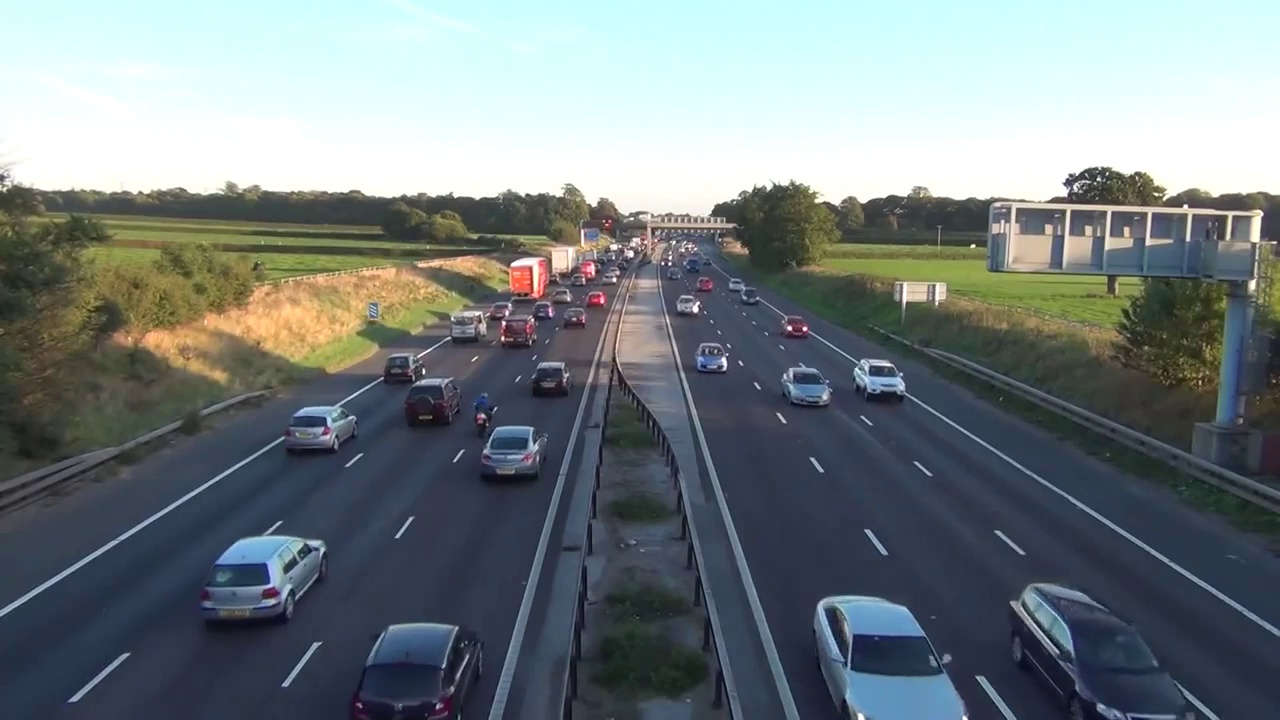bus: (1003, 578, 1206, 720), (800, 593, 980, 717), (346, 615, 485, 720), (188, 522, 325, 626), (402, 374, 469, 437), (287, 405, 360, 461), (482, 423, 555, 478), (850, 355, 913, 405), (777, 358, 832, 411), (378, 353, 428, 389), (528, 361, 575, 395), (695, 341, 730, 376), (781, 315, 811, 342), (562, 307, 589, 329), (490, 301, 517, 321), (677, 295, 699, 317), (531, 301, 555, 319), (549, 289, 576, 305), (739, 286, 761, 304), (586, 289, 608, 306), (696, 276, 714, 292), (600, 273, 620, 287), (728, 277, 743, 291), (667, 268, 682, 280), (606, 266, 621, 276), (549, 273, 560, 285), (572, 275, 586, 283), (615, 261, 625, 272), (660, 258, 671, 267), (594, 263, 602, 273)
car: (508, 256, 548, 302), (551, 245, 576, 278)
jeep: (468, 390, 493, 438)
lorry: (447, 312, 487, 342), (502, 315, 538, 348), (574, 255, 582, 270)
minibus: (579, 261, 595, 280), (685, 258, 701, 273)
